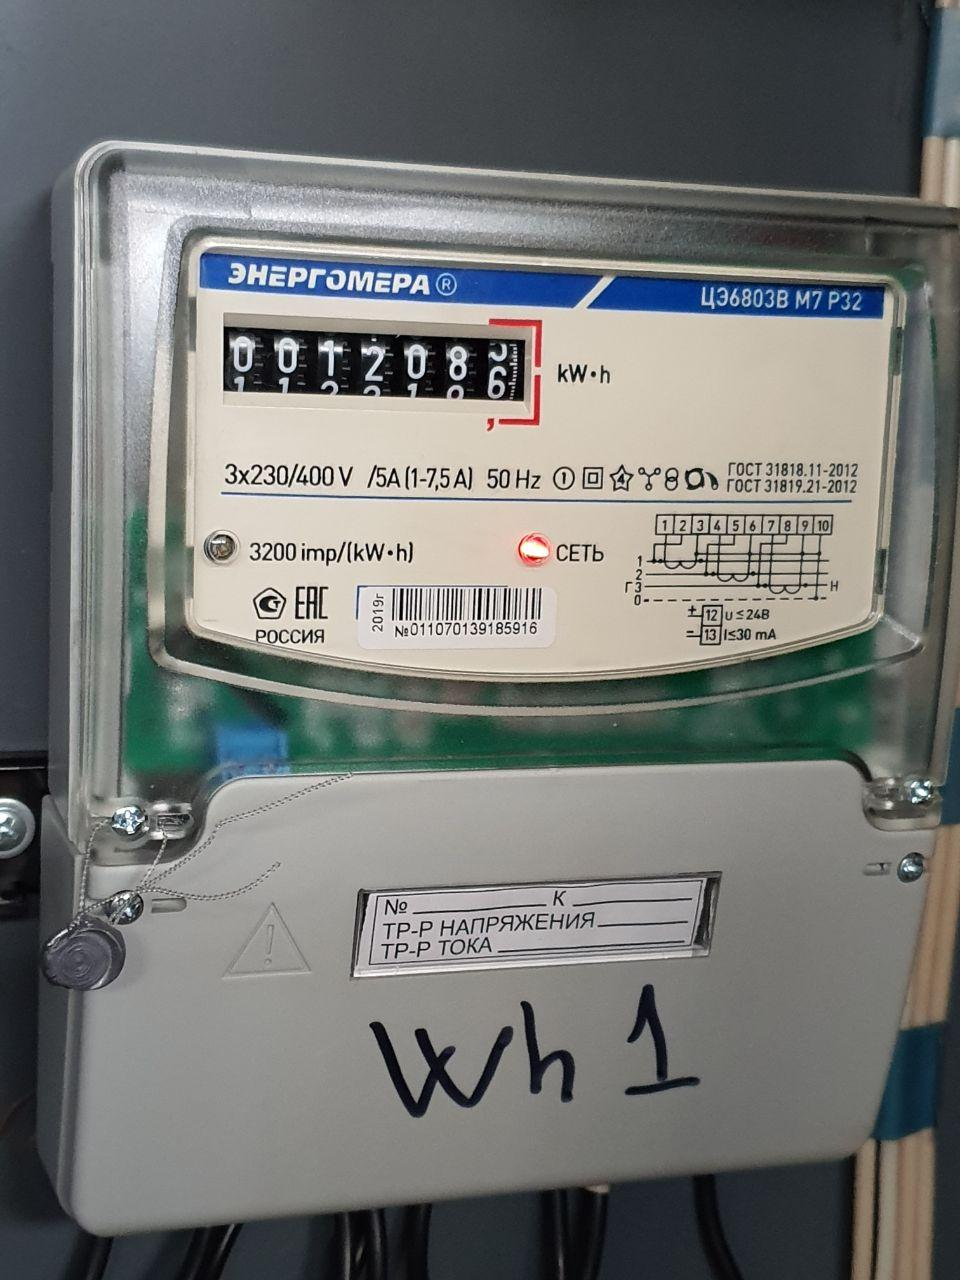0: (274, 334, 302, 376), (231, 332, 255, 374), (405, 342, 428, 381)
1: (319, 337, 341, 378)
2: (362, 344, 387, 383)
6: (484, 364, 508, 400)
8: (447, 343, 469, 383)
screen: (214, 300, 553, 439)
